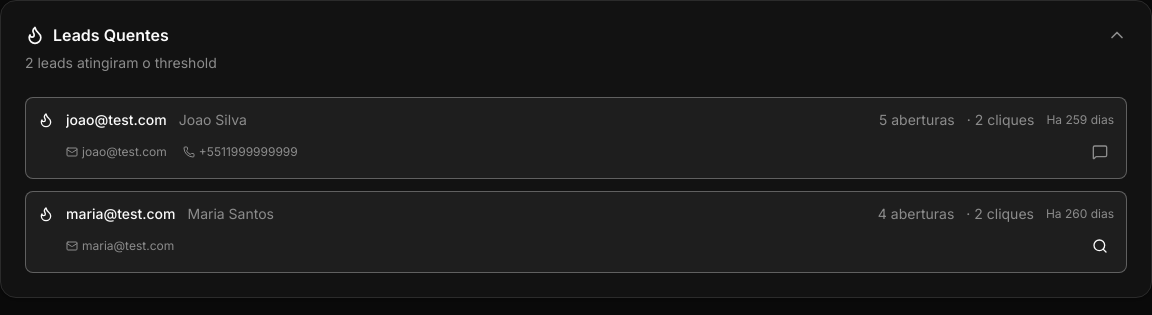
Test: OpportunityPanel › collapsible › fecha ao clicar no header
This screenshot has width=1152, height=315.
Click the element with test id "opportunity-header-toggle" at (111, 35), box [1,25,1151,73]
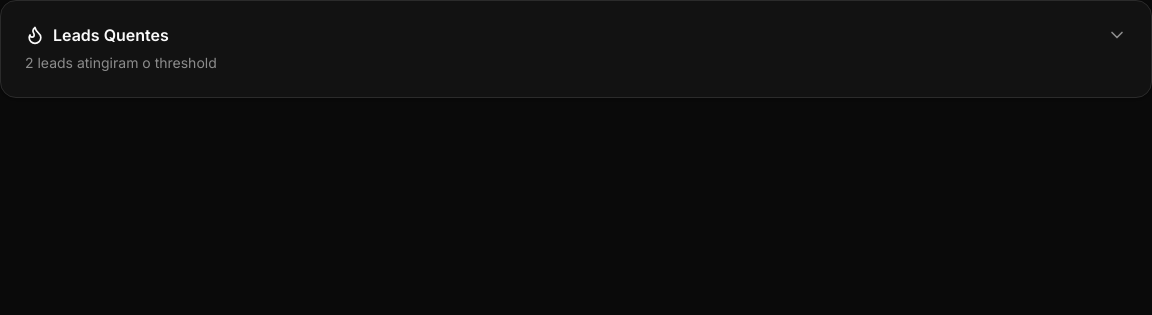
Result: the element with test id "opportunity-content" is gone
Result: the icon with test id "chevron-down" is shown at [1107,25,1127,45]
